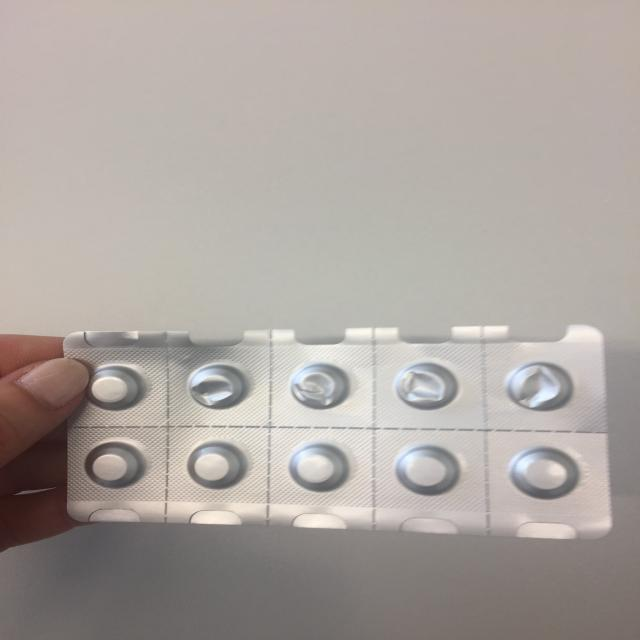Empty: (497, 356, 574, 417), (386, 358, 462, 414), (180, 359, 255, 414), (278, 359, 354, 413)
Pill: (278, 437, 359, 498), (506, 444, 580, 507), (183, 434, 255, 497), (77, 436, 153, 494), (392, 442, 462, 502), (77, 357, 148, 414)
